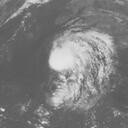cyclone: (47, 28, 119, 109)
